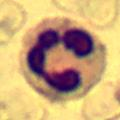eosi: (17, 15, 106, 99)
